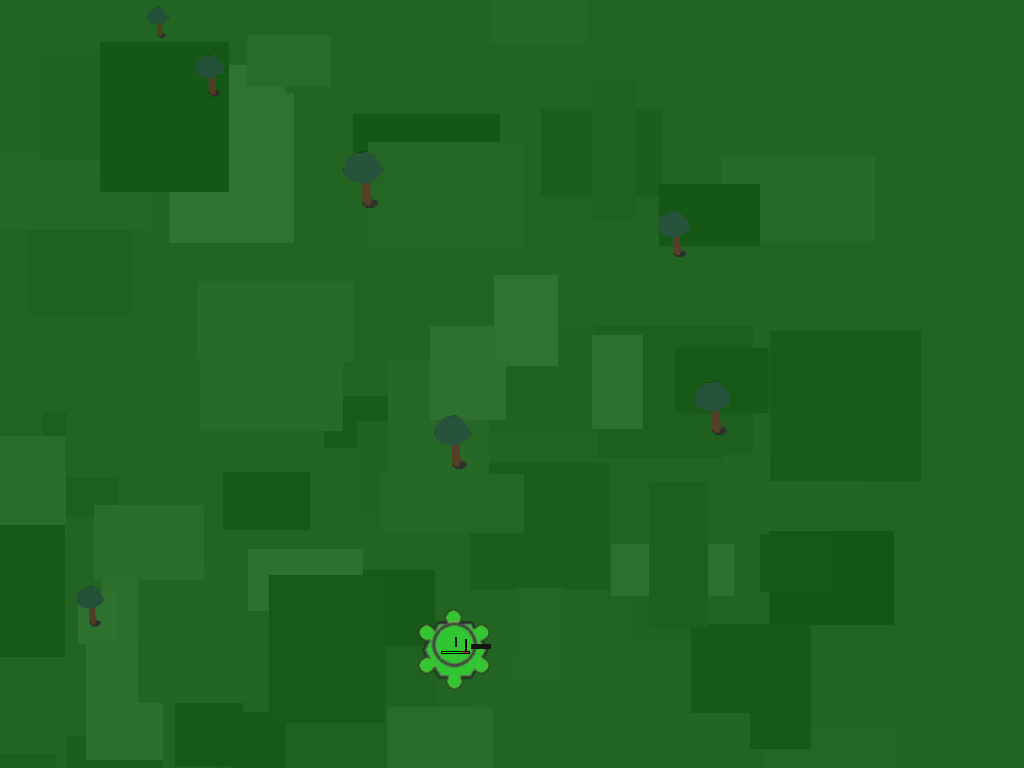APC_chn: (415, 610, 495, 690)
